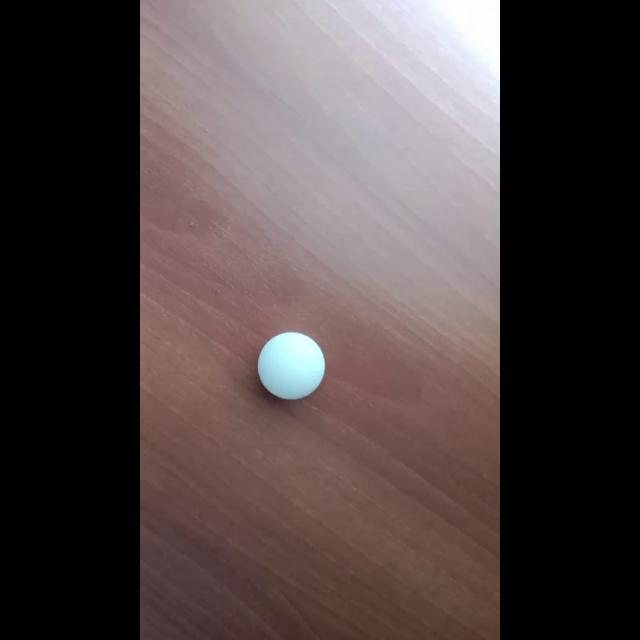white ball: (257, 331, 325, 401)
